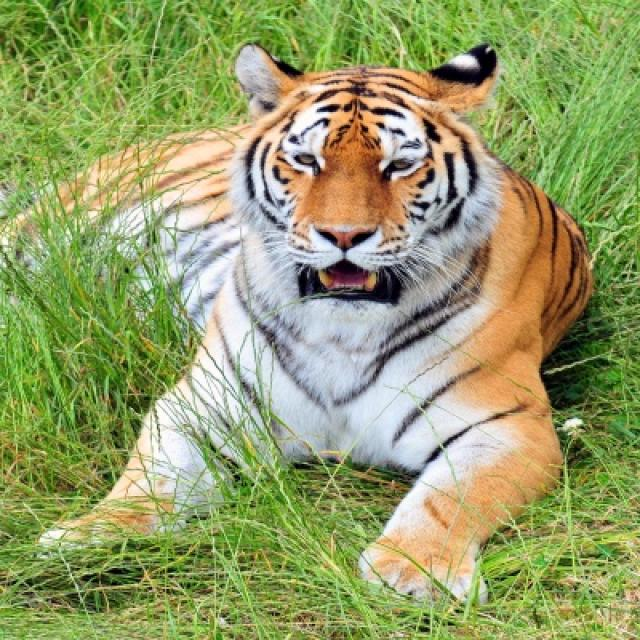Tiger: (0, 41, 590, 611)
